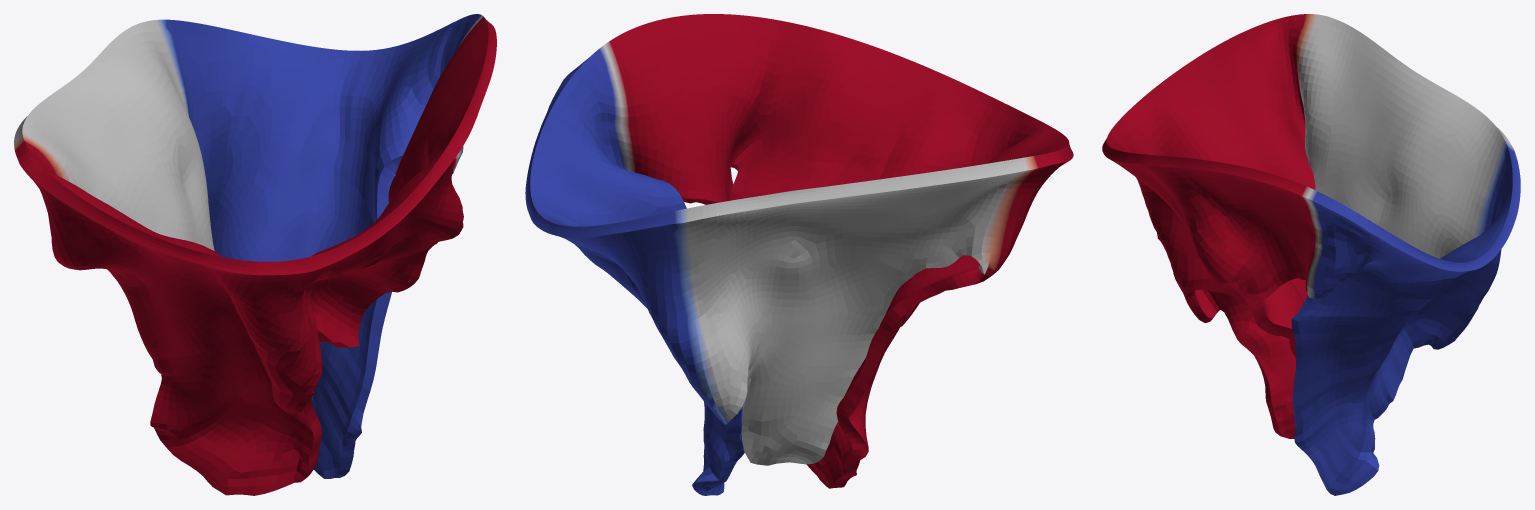
The model's file is valve_1.glb.
The picture shows the model from 3 angles, left to right: view 1: azimuth 30°, elevation 25°; view 2: azimuth 150°, elevation 25°; view 3: azimuth 270°, elevation 25°; orthographic projection. The views are drawn at different scales.
Visible parts, largest first — view 1: OCS14_PM_2003__1; view 2: OCS14_PM_2003__1; view 3: OCS14_PM_2003__1.
Part boxes in pixels (x1=…): OCS14_PM_2003__1: x1=14, y1=14, x2=496, y2=495; OCS14_PM_2003__1: x1=525, y1=14, x2=1073, y2=495; OCS14_PM_2003__1: x1=1102, y1=14, x2=1520, y2=495.
Size of the model in its own units: 29.15 by 25.12 by 26.03.
